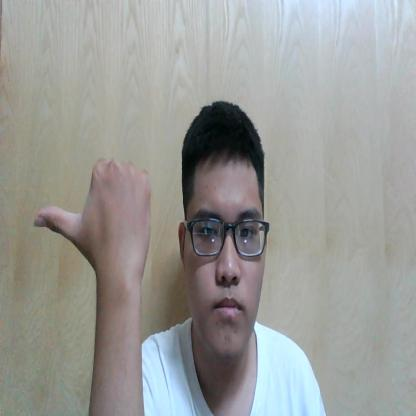right: (34, 154, 154, 272)
